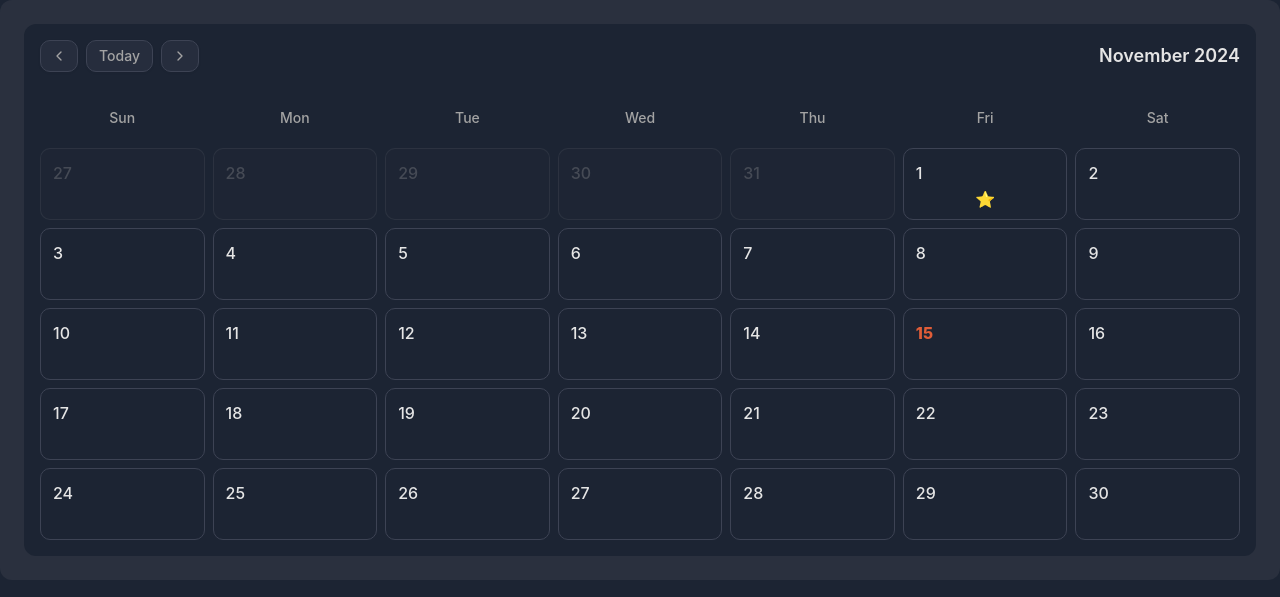
CalendarView › navigates between months
Expected: the heading "November 2024" is shown, [1099, 42, 1240, 70]
Click the button named "go to next month".
click(180, 56)  # box [161, 40, 199, 72]
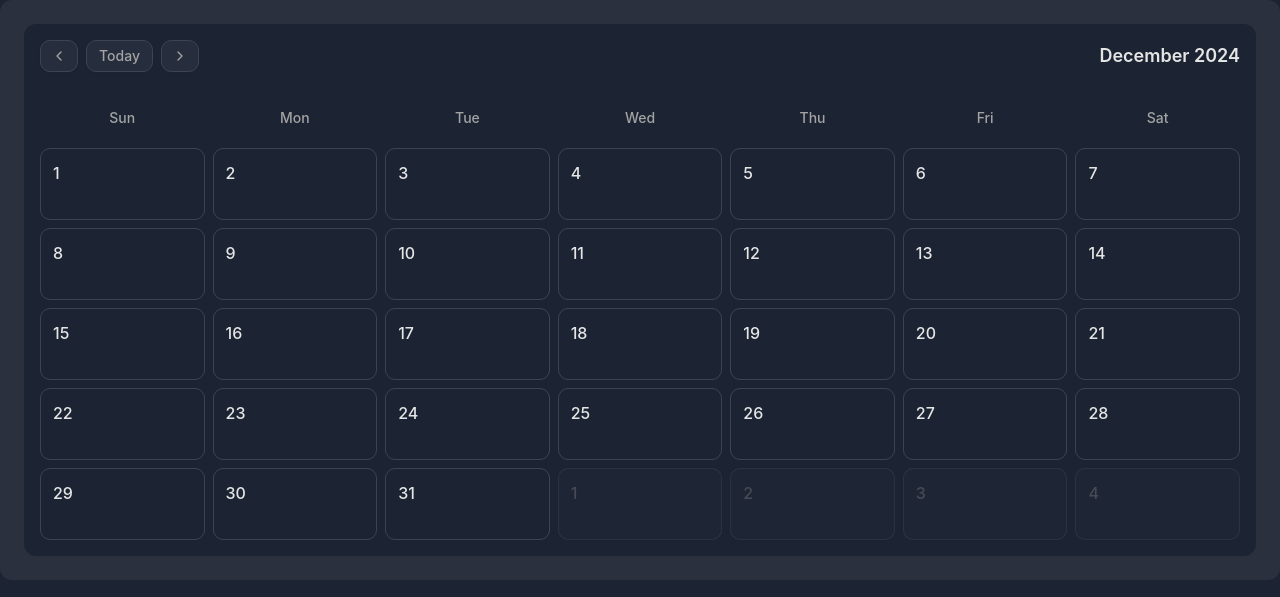
Expected: the heading "December 2024" is shown, [1100, 42, 1240, 70]
Click the button named "go to previous month".
click(59, 56)  # box [40, 40, 78, 72]
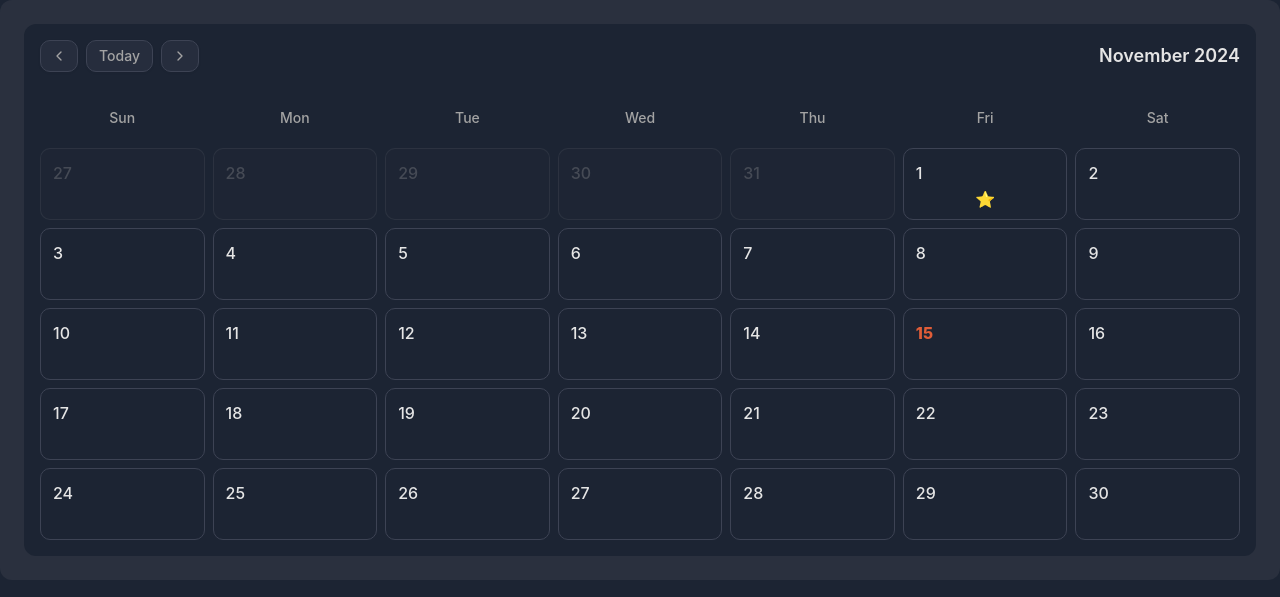
Expected: the heading "November 2024" is shown, [1099, 42, 1240, 70]
Click the button named "go to next month".
click(180, 56)  # box [161, 40, 199, 72]
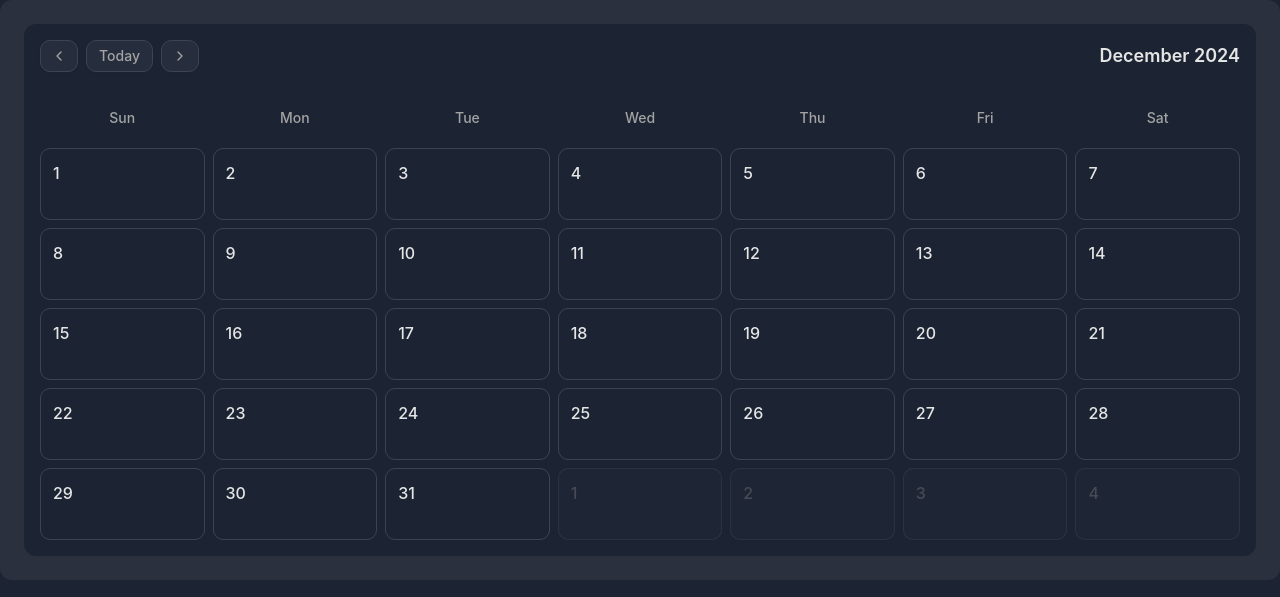
Click the button "Today".
click(120, 56)  # box [86, 40, 153, 72]
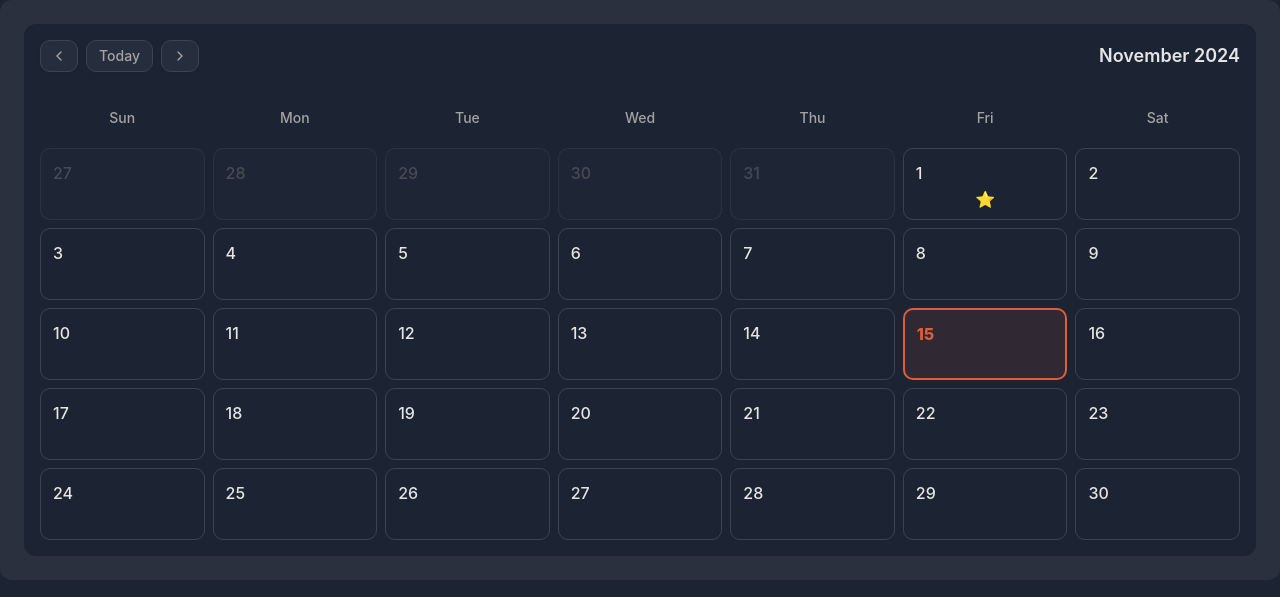
Expected: the heading "November 2024" is shown, [1099, 42, 1240, 70]
